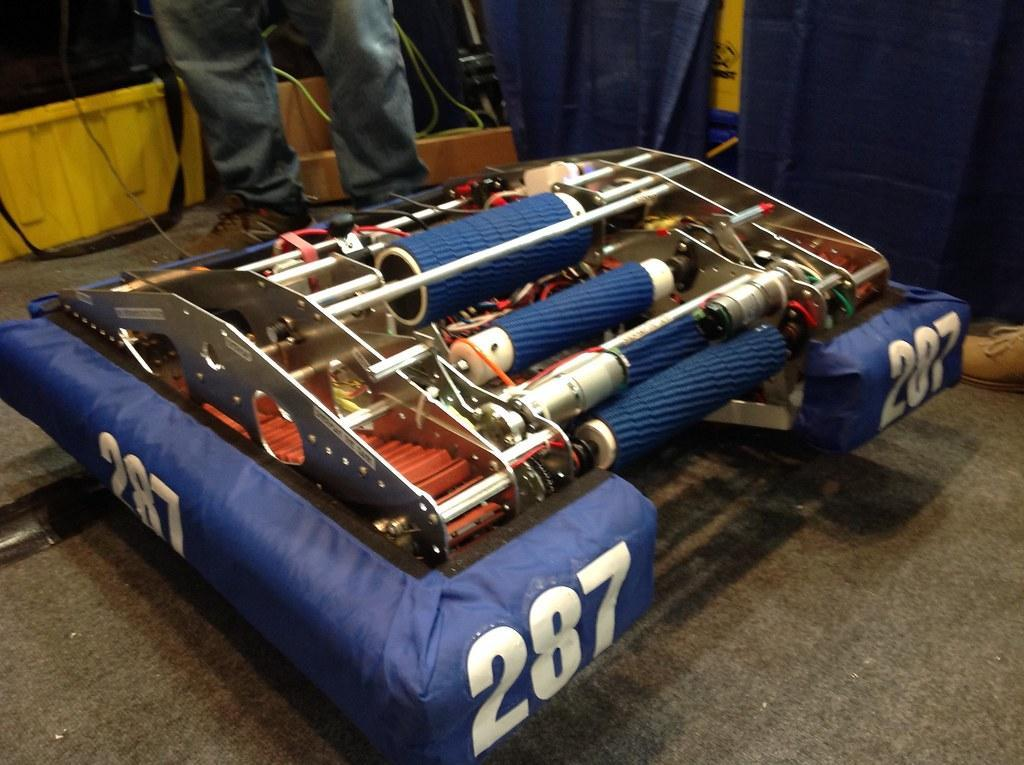robot: (0, 127, 980, 765)
